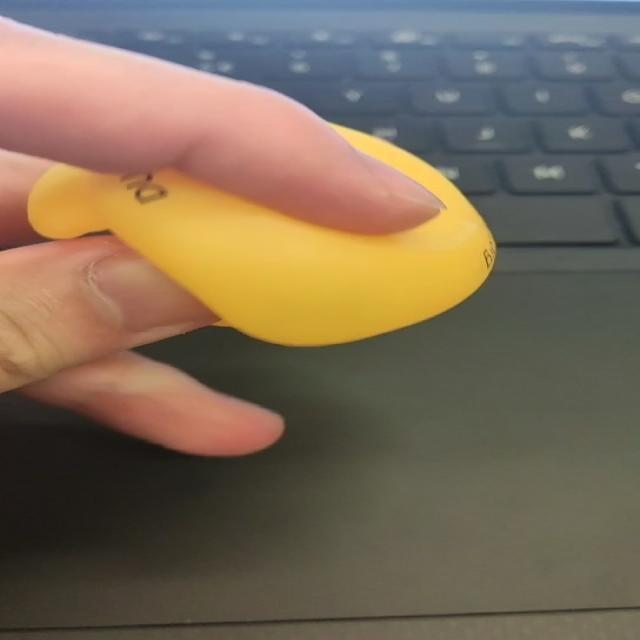rubber-duck: (27, 124, 494, 344)
